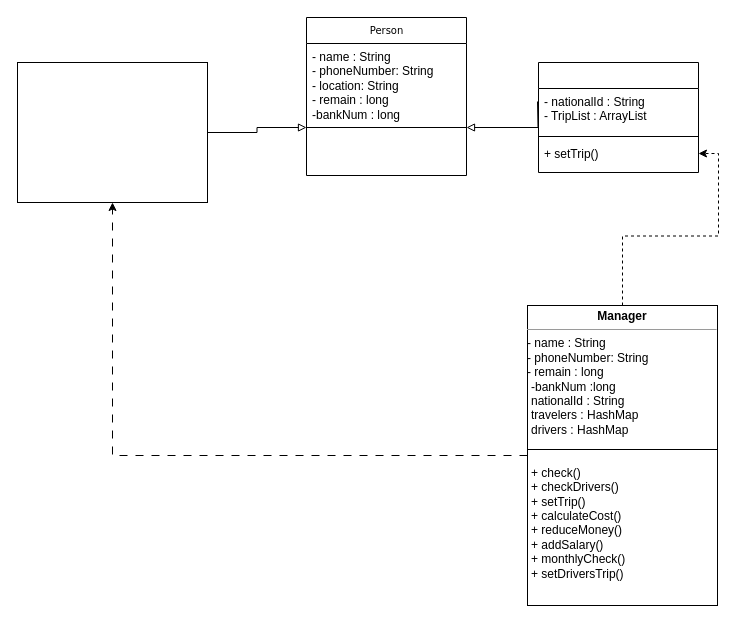
Some shapes in this 744 by 623 pixel diagram are drawn without their labels. The shapes that lost their labels are listed below. From the top down, each one's box as (x1, y1, x2, y2) in pixels, then its label:
(16, 62, 208, 202): Traveler + field1: Type + field2: Type + chooseTrip() + addMoney()
(538, 62, 698, 172): TaxiDriver
